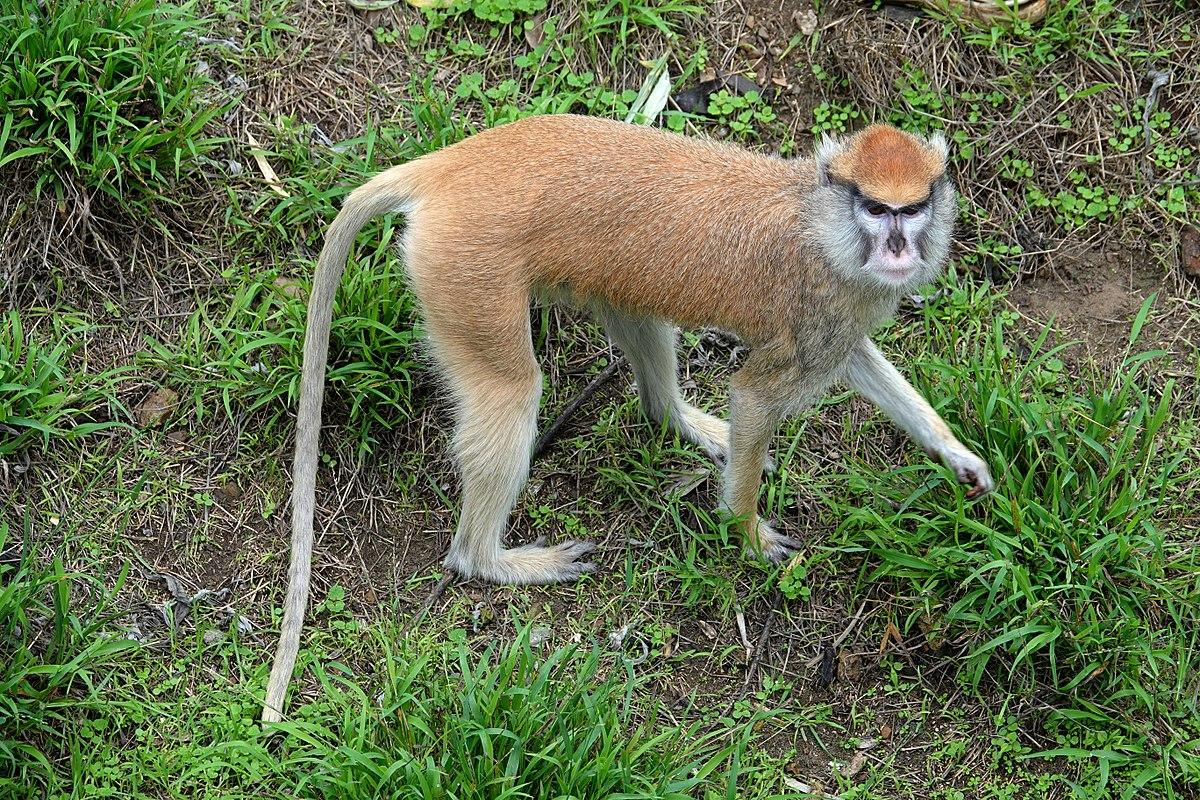monkey: (282, 114, 994, 681)
